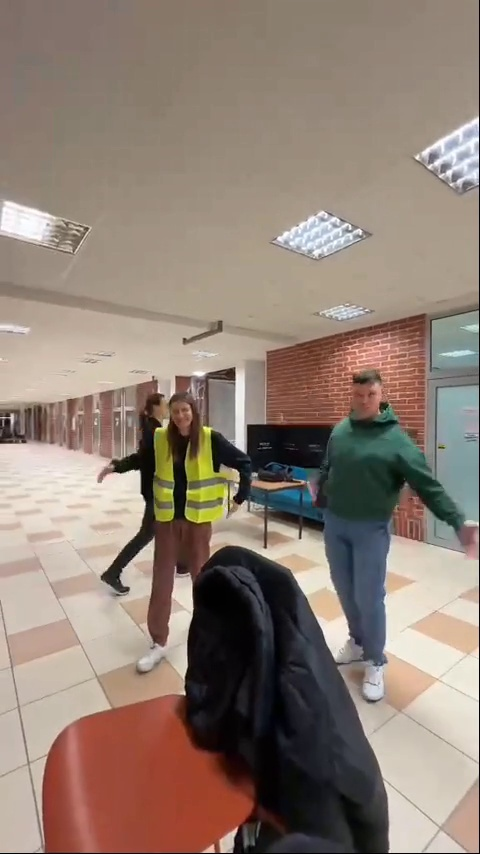no vest: (319, 368, 451, 680)
vest: (149, 385, 252, 681)
